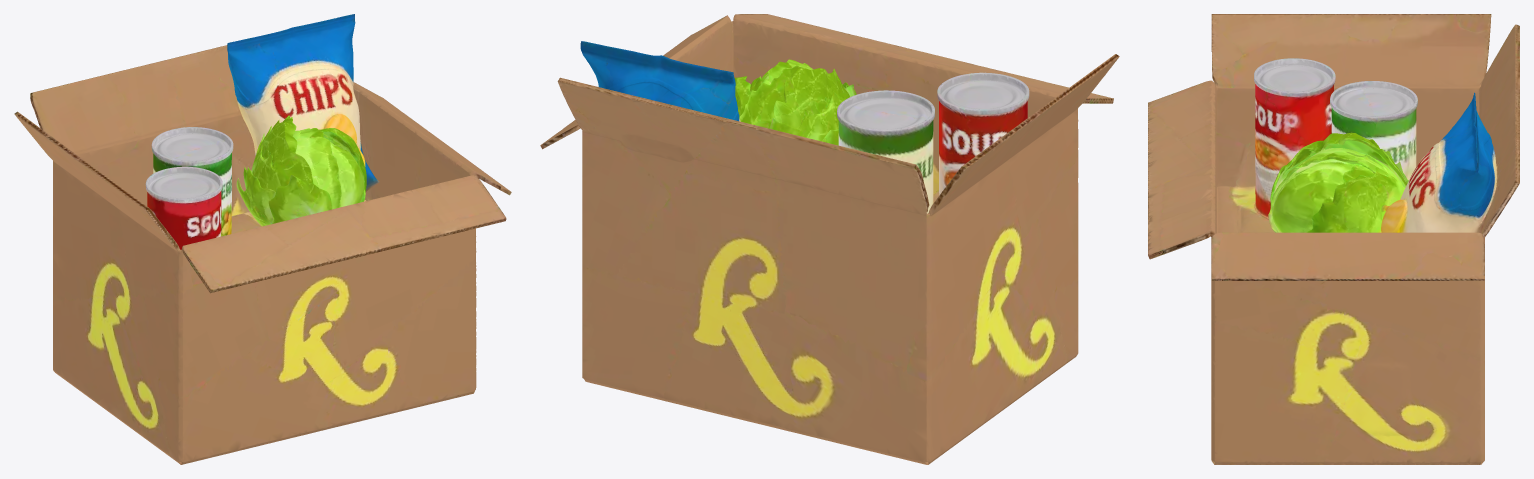
File: boxes.glb
3 renders of one model, left to right at view 1: azimuth 30°, elevation 25°; view 2: azimuth 150°, elevation 25°; view 3: azimuth 270°, elevation 25°, orthographic. The views are drawn at different scales.
Parts seen in each view (by area): view 1: Mesh_0; view 2: Mesh_0; view 3: Mesh_0.
Part boxes in pixels (box(x1,y1,x2,y2)): Mesh_0: box(14, 14, 511, 464); Mesh_0: box(540, 14, 1119, 464); Mesh_0: box(1148, 14, 1519, 464).
Bounding box in the file's own units: 0.1578 × 0.12 × 0.1309.
Materials: 1 (1 with a texture image).
